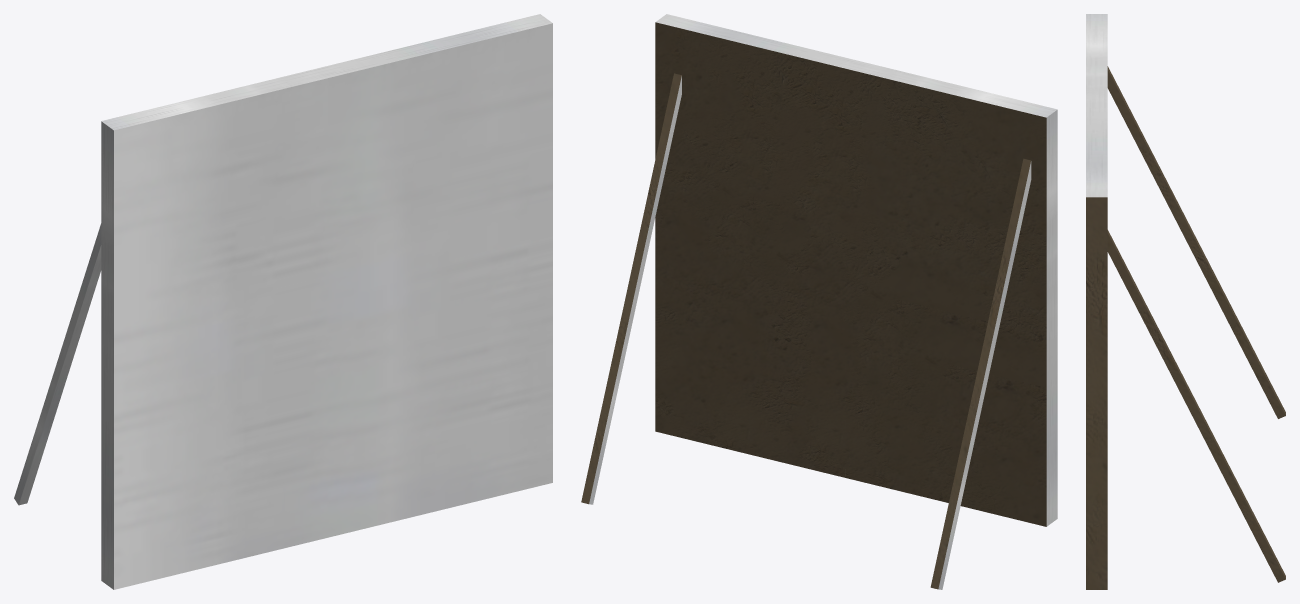
The model's file is Outer_Wall.fbx.
3 renders of one model, left to right at view 1: azimuth 30°, elevation 25°; view 2: azimuth 150°, elevation 25°; view 3: azimuth 270°, elevation 25°, orthographic. The views are drawn at different scales.
Visible parts, largest first — view 1: Outer_Wall; view 2: Outer_Wall; view 3: Outer_Wall.
Boxes of the visible parts, box(x1,y1,x2,y2) form: Outer_Wall: box(14, 14, 552, 589); Outer_Wall: box(581, 14, 1057, 589); Outer_Wall: box(1086, 14, 1285, 589).
Bounding box in the file's own units: 10 × 10.04 × 4.61.
